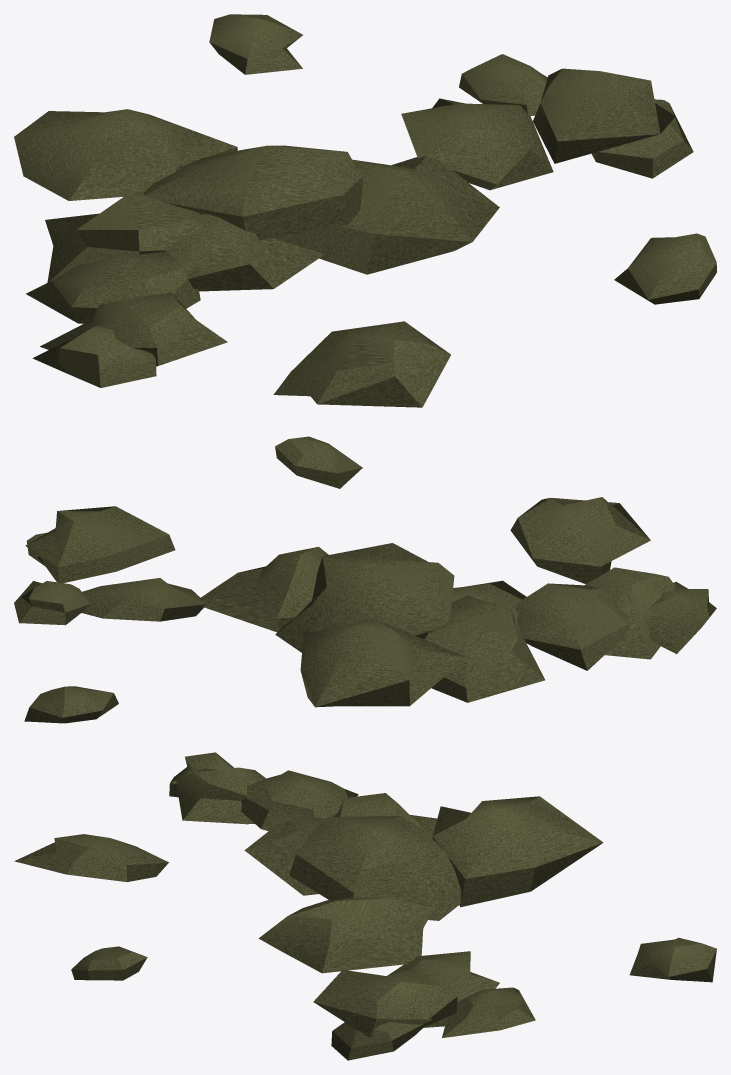
File: brush_mat_5.glb
3 views of the same model, one above another, from view 1: azimuth 30°, elevation 25°; view 2: azimuth 150°, elevation 25°; view 3: azimuth 270°, elevation 25° (orthographic). The views are drawn at different scales.
Visible parts, largest first — view 1: brush_mat_5; view 2: brush_mat_5; view 3: brush_mat_5.
Boxes of the visible parts, <box> form: brush_mat_5: <box>14,14,716,407</box>; brush_mat_5: <box>14,436,716,723</box>; brush_mat_5: <box>14,752,716,1060</box>.
Size of the model in its own units: 3.41 by 0.4733 by 3.63.
Materials: 1 (1 with a texture image).
